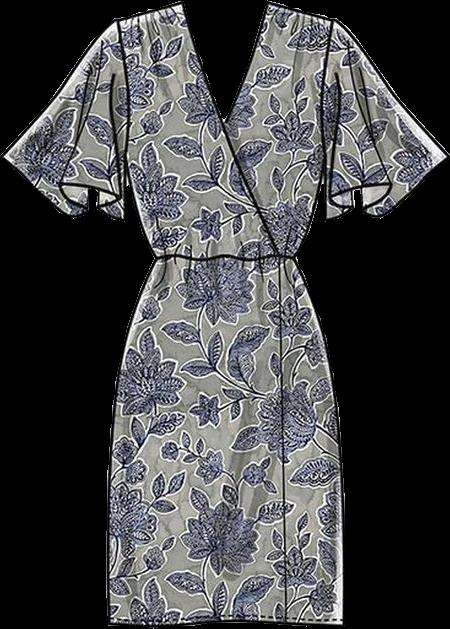Bodice: (115, 2, 335, 262)
Hemline: (109, 614, 344, 628)
Neckline: (176, 2, 275, 124)
Skirt: (107, 257, 343, 625)
Sleeve: (0, 22, 133, 220), (322, 15, 449, 221)
Sleeveline: (319, 18, 340, 159), (113, 21, 130, 166)
Waistline: (151, 252, 296, 268)
